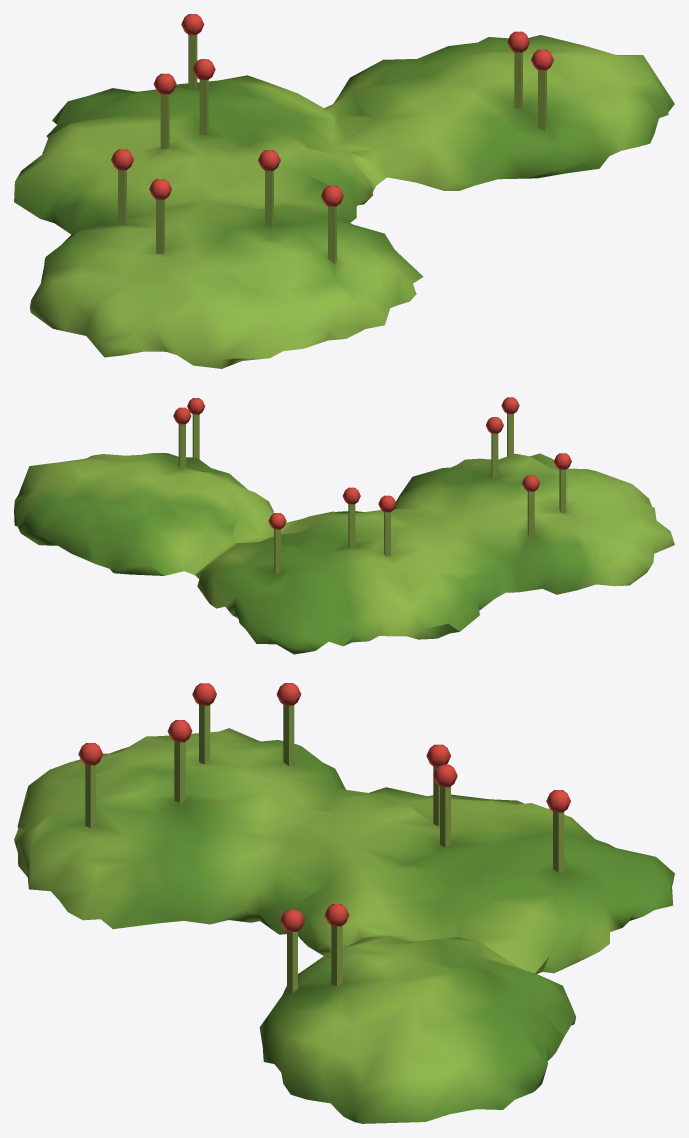
Rendered from glade_gc_moss_patch_b.glb.
3 renders of one model, top to bottom at view 1: azimuth 30°, elevation 25°; view 2: azimuth 150°, elevation 25°; view 3: azimuth 270°, elevation 25°, orthographic. The views are drawn at different scales.
Visible parts, largest first — view 1: glade_gc_moss_patch_b; view 2: glade_gc_moss_patch_b; view 3: glade_gc_moss_patch_b.
Boxes of the visible parts, box(x1,y1,x2,y2) form: glade_gc_moss_patch_b: box(14, 14, 674, 368); glade_gc_moss_patch_b: box(14, 397, 674, 654); glade_gc_moss_patch_b: box(14, 683, 674, 1123).
Bounding box in the file's own units: 6.28 × 1.23 × 4.77.
